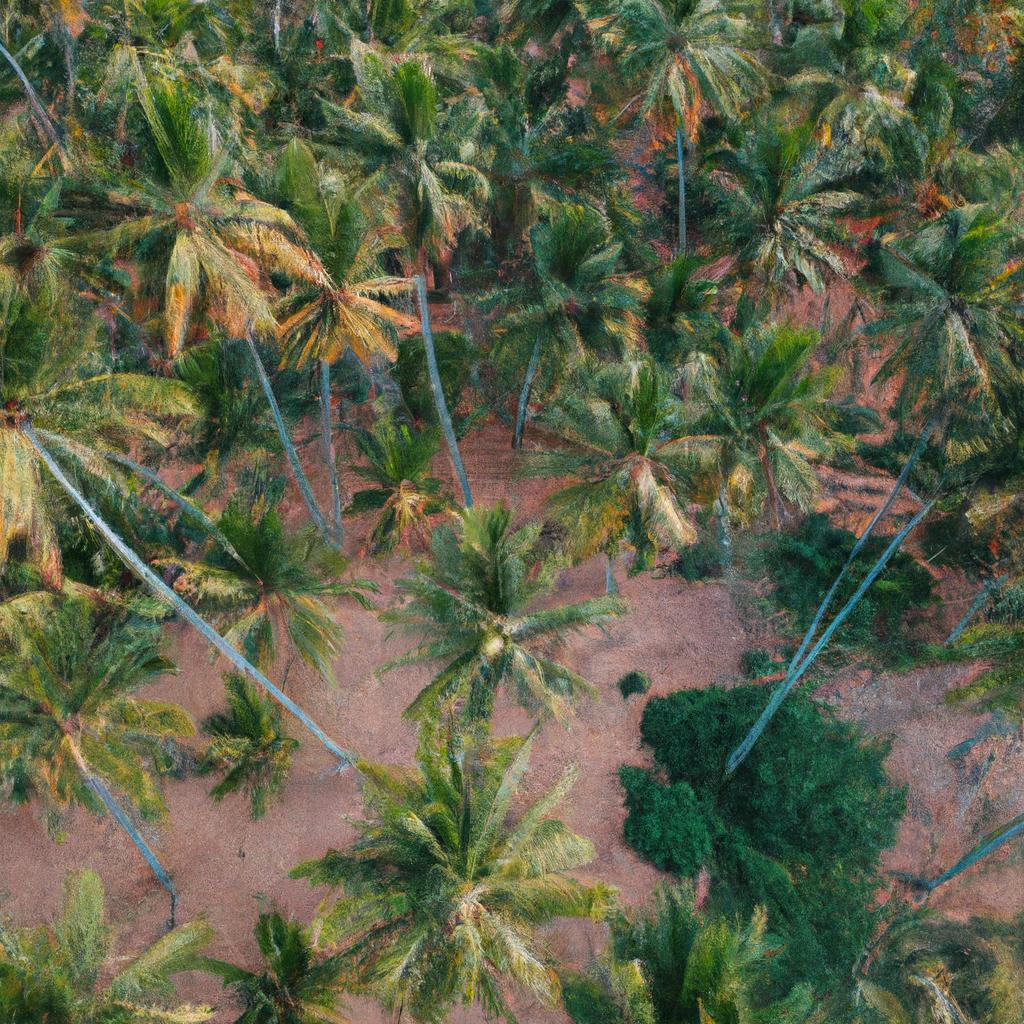coconut_tree: (307, 732, 586, 1023), (54, 101, 330, 324), (402, 505, 604, 716)
